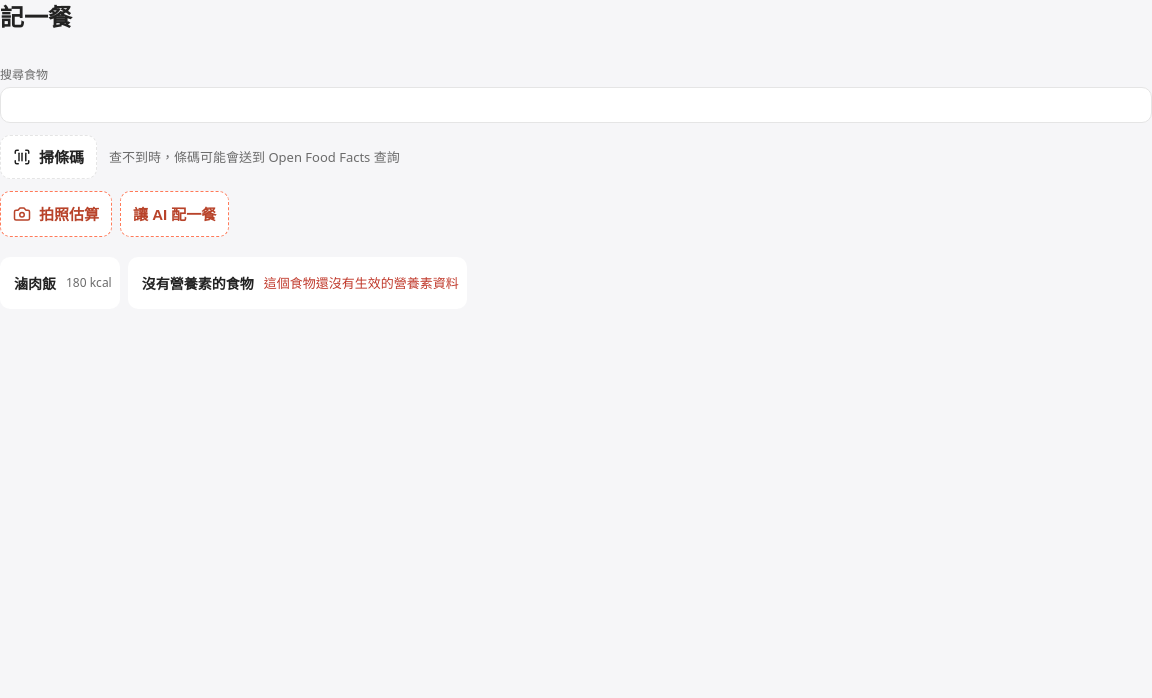
記一餐 › 409 FOOD_HAS_NO_REVISION 顯示具名訊息，不是通用的「記錄失敗，請再試一次」
This screenshot has width=1152, height=698.
Click the button "滷肉飯": (35, 283) [8,261,62,305]
(page scrolled)
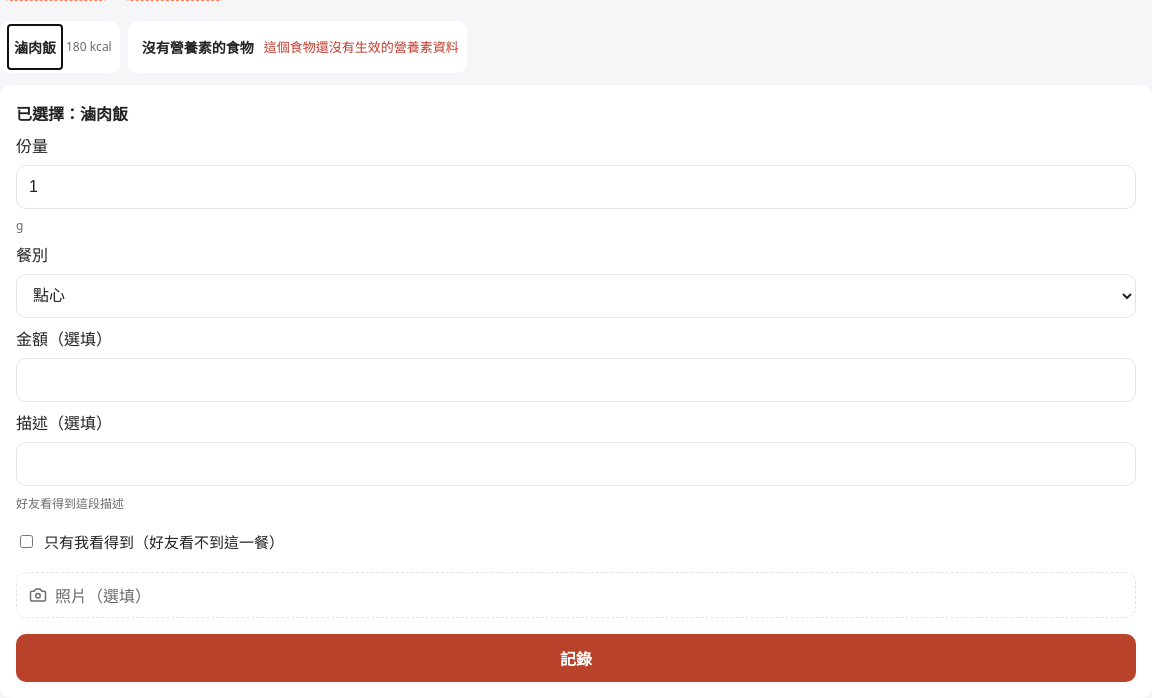
Click the button "記錄": (576, 658) [16,634,1136,682]
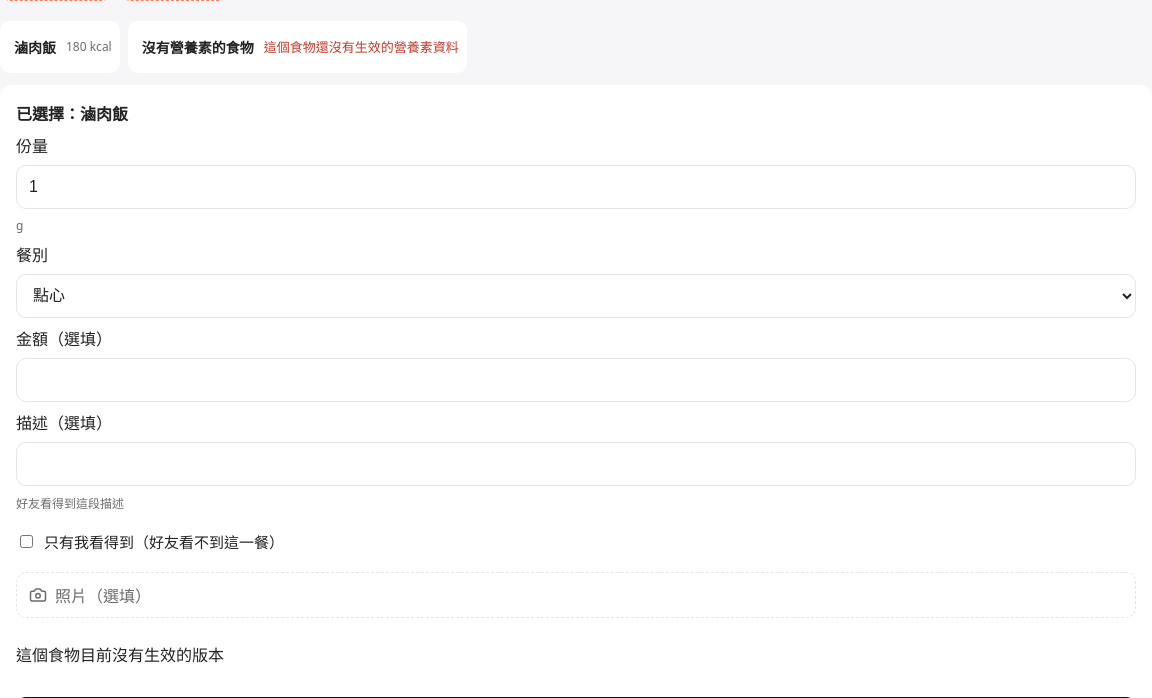
Now the text "這個食物目前沒有生效的版本" is shown, box [16,644,224,666]
